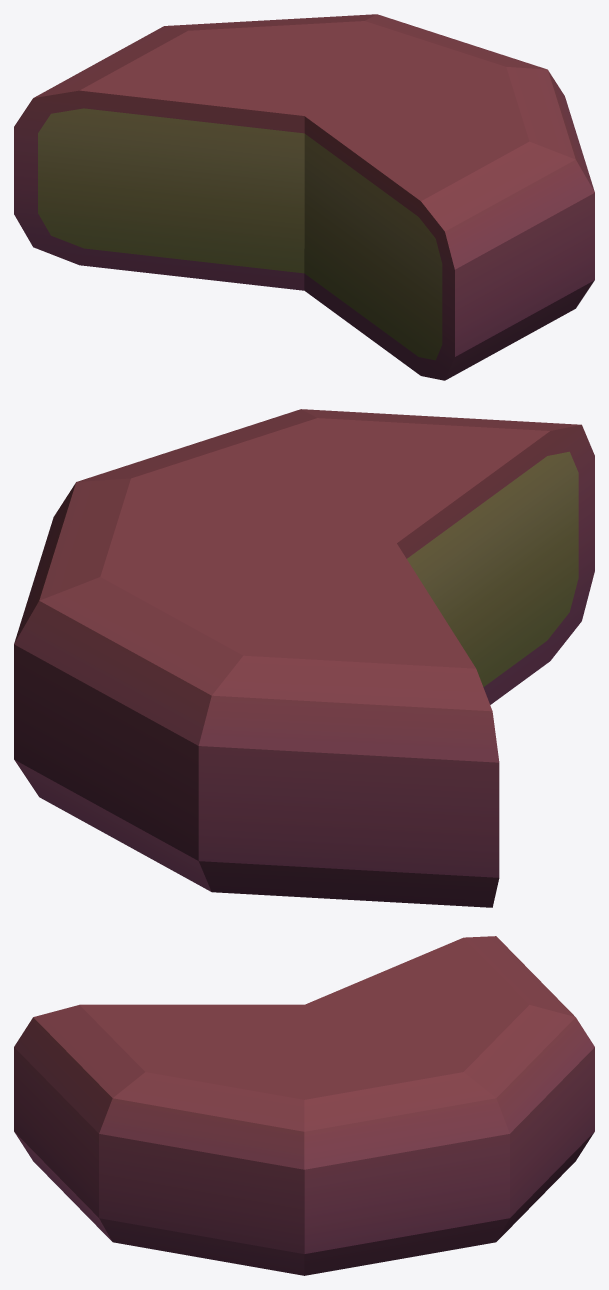
Rendered from SM_CheeseWheel.fbx.
The picture shows the model from 3 angles, top to bottom: view 1: azimuth 30°, elevation 25°; view 2: azimuth 150°, elevation 25°; view 3: azimuth 270°, elevation 25°; orthographic projection. The views are drawn at different scales.
Visible parts, largest first — view 1: cheesewheel; view 2: cheesewheel; view 3: cheesewheel.
Part boxes in pixels (<box>): cheesewheel: <box>14,14,594,380</box>; cheesewheel: <box>14,409,594,907</box>; cheesewheel: <box>14,936,594,1275</box>.
Bounding box in the file's own units: 26.63 × 10 × 31.2.
